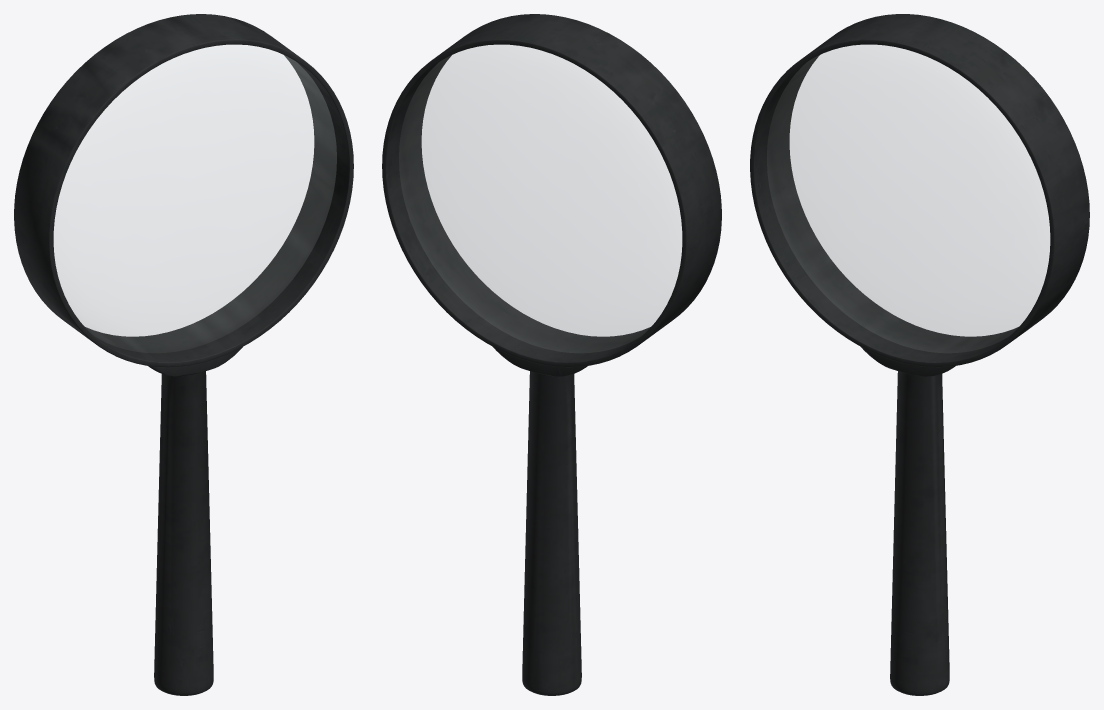
The model's file is magnifying_glass_01.glb.
3 views of the same model, side by side, from view 1: azimuth 30°, elevation 25°; view 2: azimuth 150°, elevation 25°; view 3: azimuth 330°, elevation 25° (orthographic).
Parts seen in each view (by area): view 1: magnifying_glass_01; view 2: magnifying_glass_01; view 3: magnifying_glass_01.
Part boxes in pixels (x1=…): magnifying_glass_01: x1=14, y1=14, x2=353, y2=695; magnifying_glass_01: x1=382, y1=14, x2=721, y2=695; magnifying_glass_01: x1=750, y1=14, x2=1089, y2=695.
Bounding box in the file's own units: 0.1321 × 0.2716 × 0.0267.
Materials: 2 (1 with a texture image).
